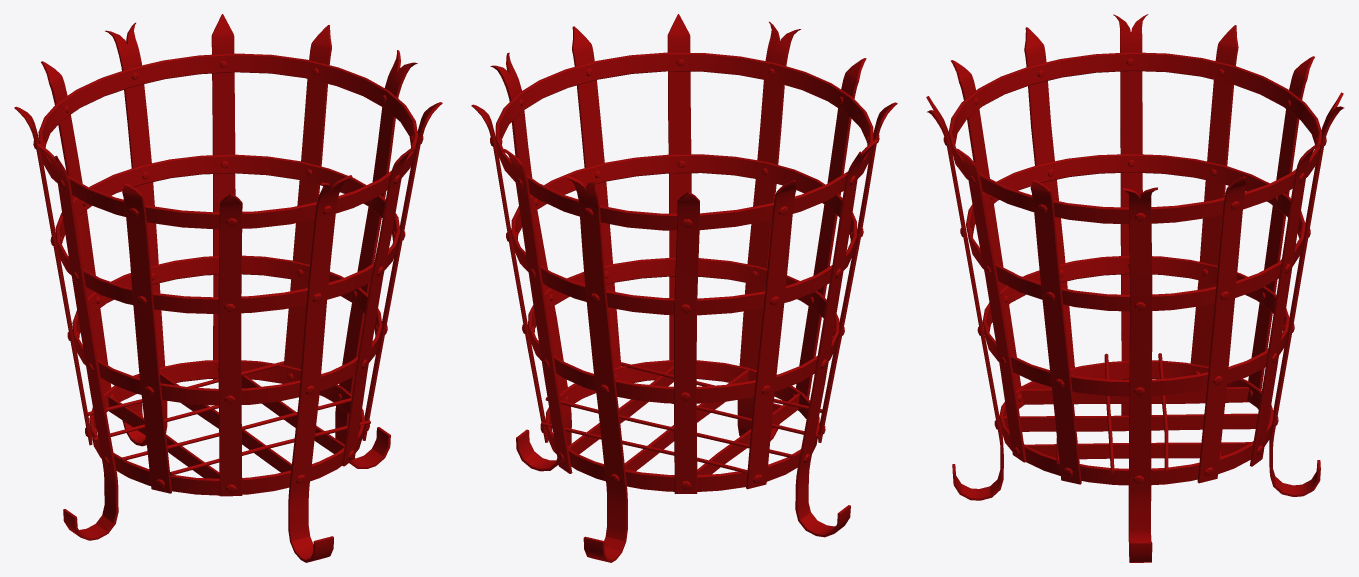
The model's file is SM_Fire_Calderon.fbx.
The picture shows the model from 3 angles, left to right: view 1: azimuth 30°, elevation 25°; view 2: azimuth 150°, elevation 25°; view 3: azimuth 270°, elevation 25°; orthographic projection.
Visible parts, largest first — view 1: SM_Fire_Calderon; view 2: SM_Fire_Calderon; view 3: SM_Fire_Calderon.
Boxes of the visible parts, left/top/right/bottom form: SM_Fire_Calderon: left=14, top=14, right=442, bottom=562; SM_Fire_Calderon: left=471, top=14, right=897, bottom=562; SM_Fire_Calderon: left=926, top=14, right=1344, bottom=562.
Bounding box in the file's own units: 68.84 × 68.61 × 71.29.
